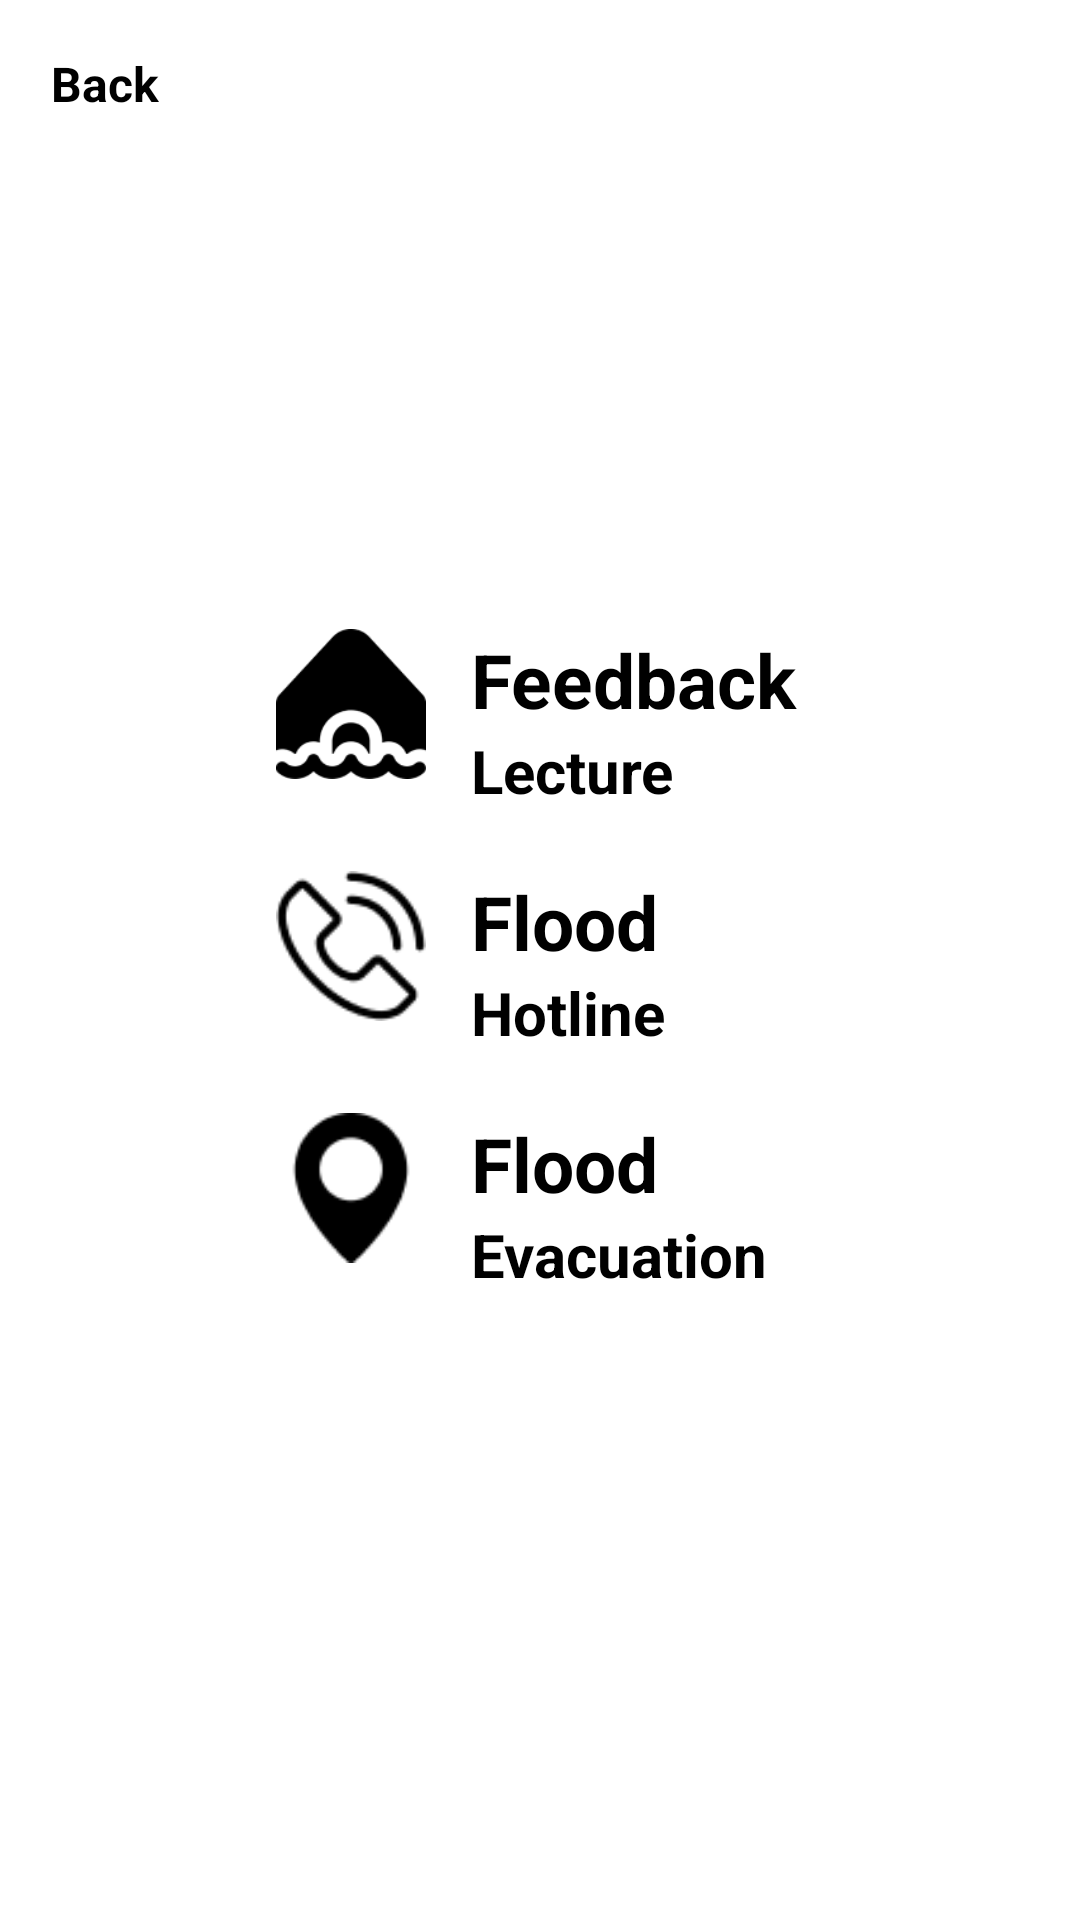

Icon click points for this 1080 × 1920 phone screenshot, format (x,y):
location: (351,1188)
